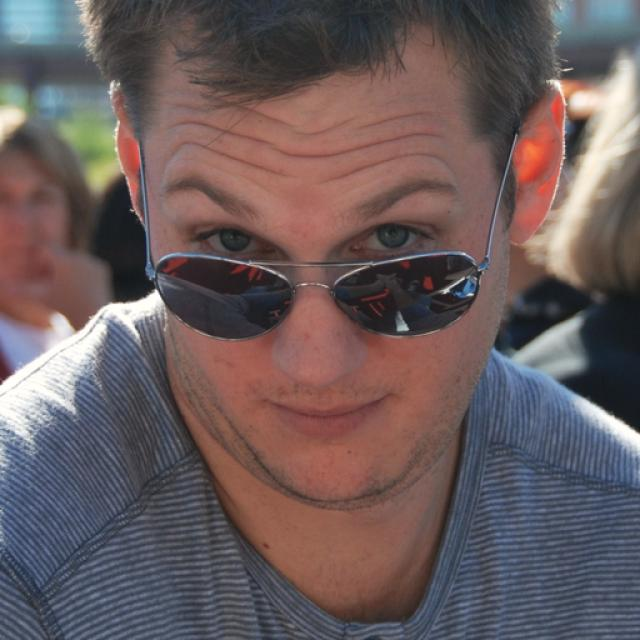Wrinkle: (270, 121, 451, 163), (170, 133, 303, 188), (321, 143, 456, 191), (166, 110, 280, 156), (192, 88, 300, 132), (359, 103, 433, 133)
